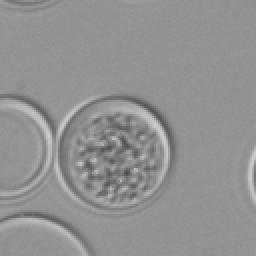picoshell: (52, 94, 174, 216), (0, 94, 54, 206), (0, 212, 92, 254), (244, 144, 254, 206)
